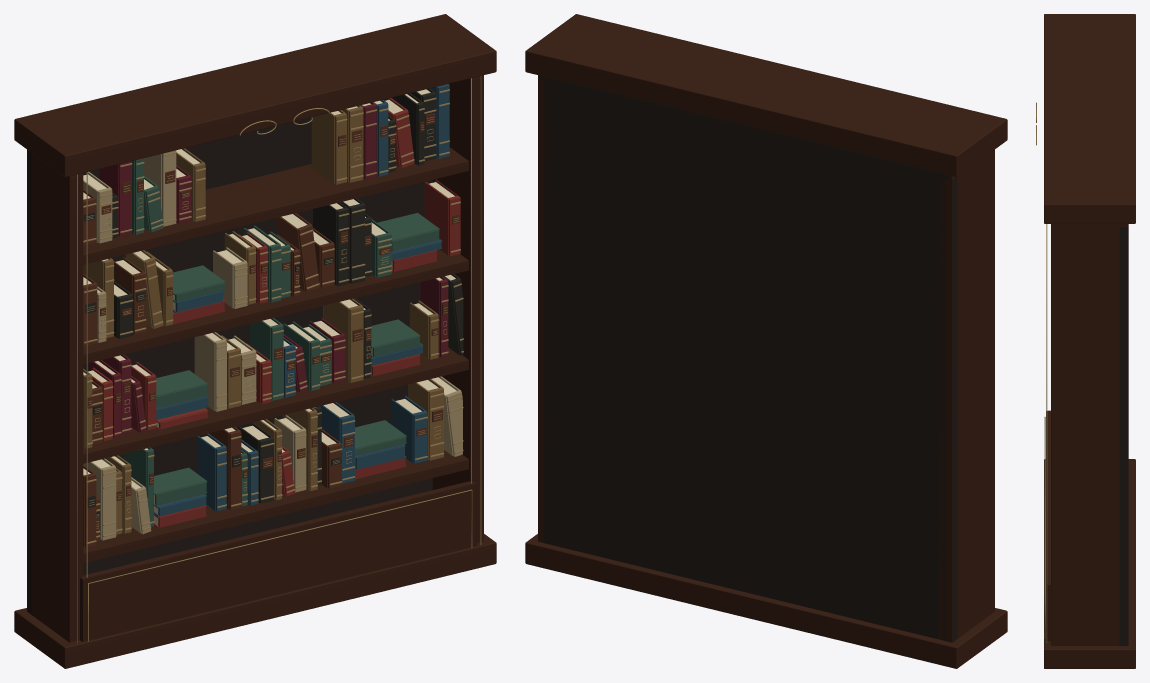
Rendered from Bookcase_Filled.fbx.
3 views of the same model, side by side, from view 1: azimuth 30°, elevation 25°; view 2: azimuth 150°, elevation 25°; view 3: azimuth 270°, elevation 25° (orthographic). The views are drawn at different scales.
Visible parts, largest first — view 1: Plinth cornice.009, Raised wooden panel.027, Upright.008, Back.004, Plinth cornice.008, Upright.009, Shelf.011, Shelf.009, Shelf.010, Shelf.008, Leather book cover.396, Panel moulding.175 (+43 smaller); view 2: Back.004, Plinth cornice.009, Upright.008, Plinth cornice.008, Upright.009; view 3: Upright.009, Plinth cornice.009, Back.004, Plinth cornice.008, Raised wooden panel.027, Panel moulding.175, Panel moulding.173.
Part boxes in pixels (bbox=[...]): Plinth cornice.009: bbox=[14, 14, 496, 177]; Raised wooden panel.027: bbox=[80, 481, 476, 641]; Upright.008: bbox=[31, 153, 83, 642]; Back.004: bbox=[27, 97, 432, 614]; Plinth cornice.008: bbox=[14, 534, 496, 668]; Upright.009: bbox=[432, 75, 483, 543]; Shelf.011: bbox=[83, 147, 468, 264]; Shelf.009: bbox=[83, 347, 468, 463]; Shelf.010: bbox=[83, 249, 468, 364]; Shelf.008: bbox=[83, 450, 468, 562]; Leather book cover.396: bbox=[311, 112, 335, 183]; Panel moulding.175: bbox=[471, 76, 481, 544]; Back.004: bbox=[538, 75, 957, 642]; Plinth cornice.009: bbox=[525, 14, 1007, 177]; Upright.008: bbox=[938, 149, 994, 642]; Plinth cornice.008: bbox=[525, 534, 1007, 668]; Upright.009: bbox=[538, 75, 551, 544]; Upright.009: bbox=[1051, 224, 1128, 645]; Plinth cornice.009: bbox=[1044, 14, 1135, 223]; Back.004: bbox=[1119, 226, 1128, 645]; Plinth cornice.008: bbox=[1044, 459, 1135, 668]; Raised wooden panel.027: bbox=[1046, 410, 1050, 641]; Panel moulding.175: bbox=[1046, 224, 1047, 643]; Panel moulding.173: bbox=[1044, 417, 1045, 638].
Size of the model in its own units: 2.5 by 2.85 by 0.553.
